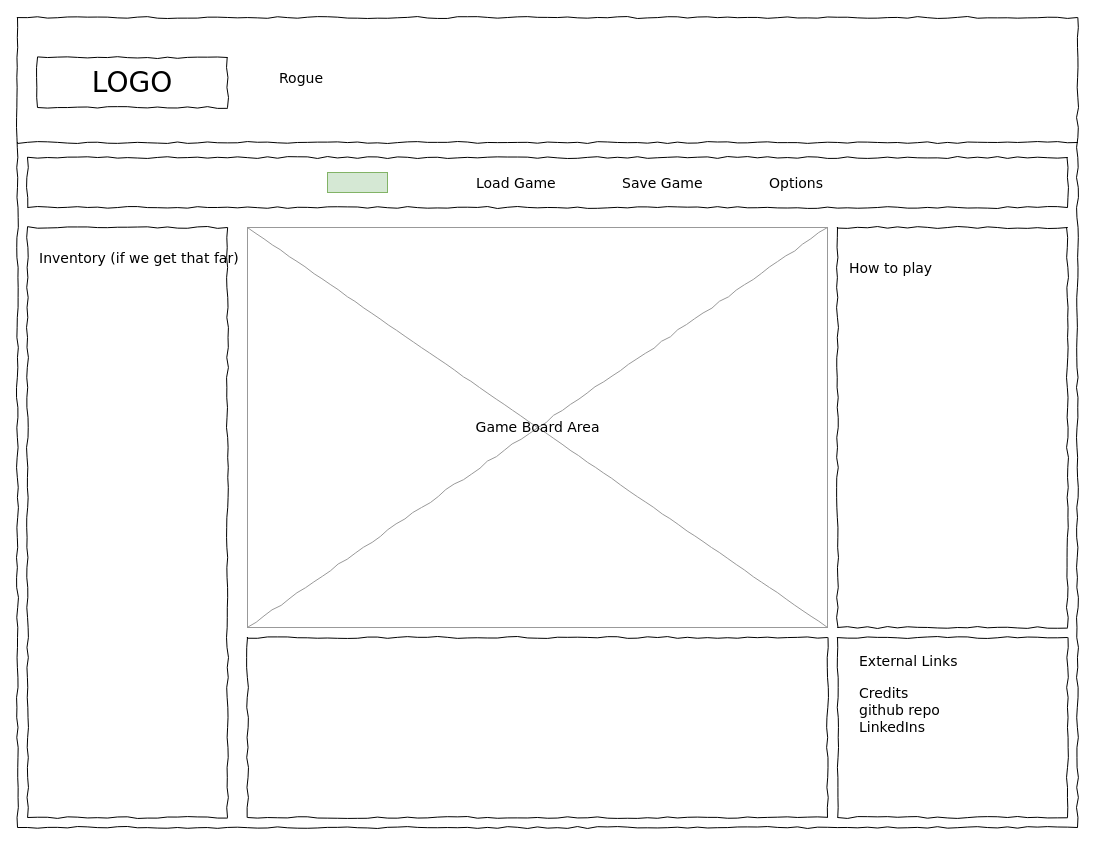
Some shapes in this 1095 by 845 pixel diagram are drawn without their labels. Each missing label, with the centre of its shape:
"History of game actions" belongs at point 537,727.
"New Game" belongs at point 357,182.
